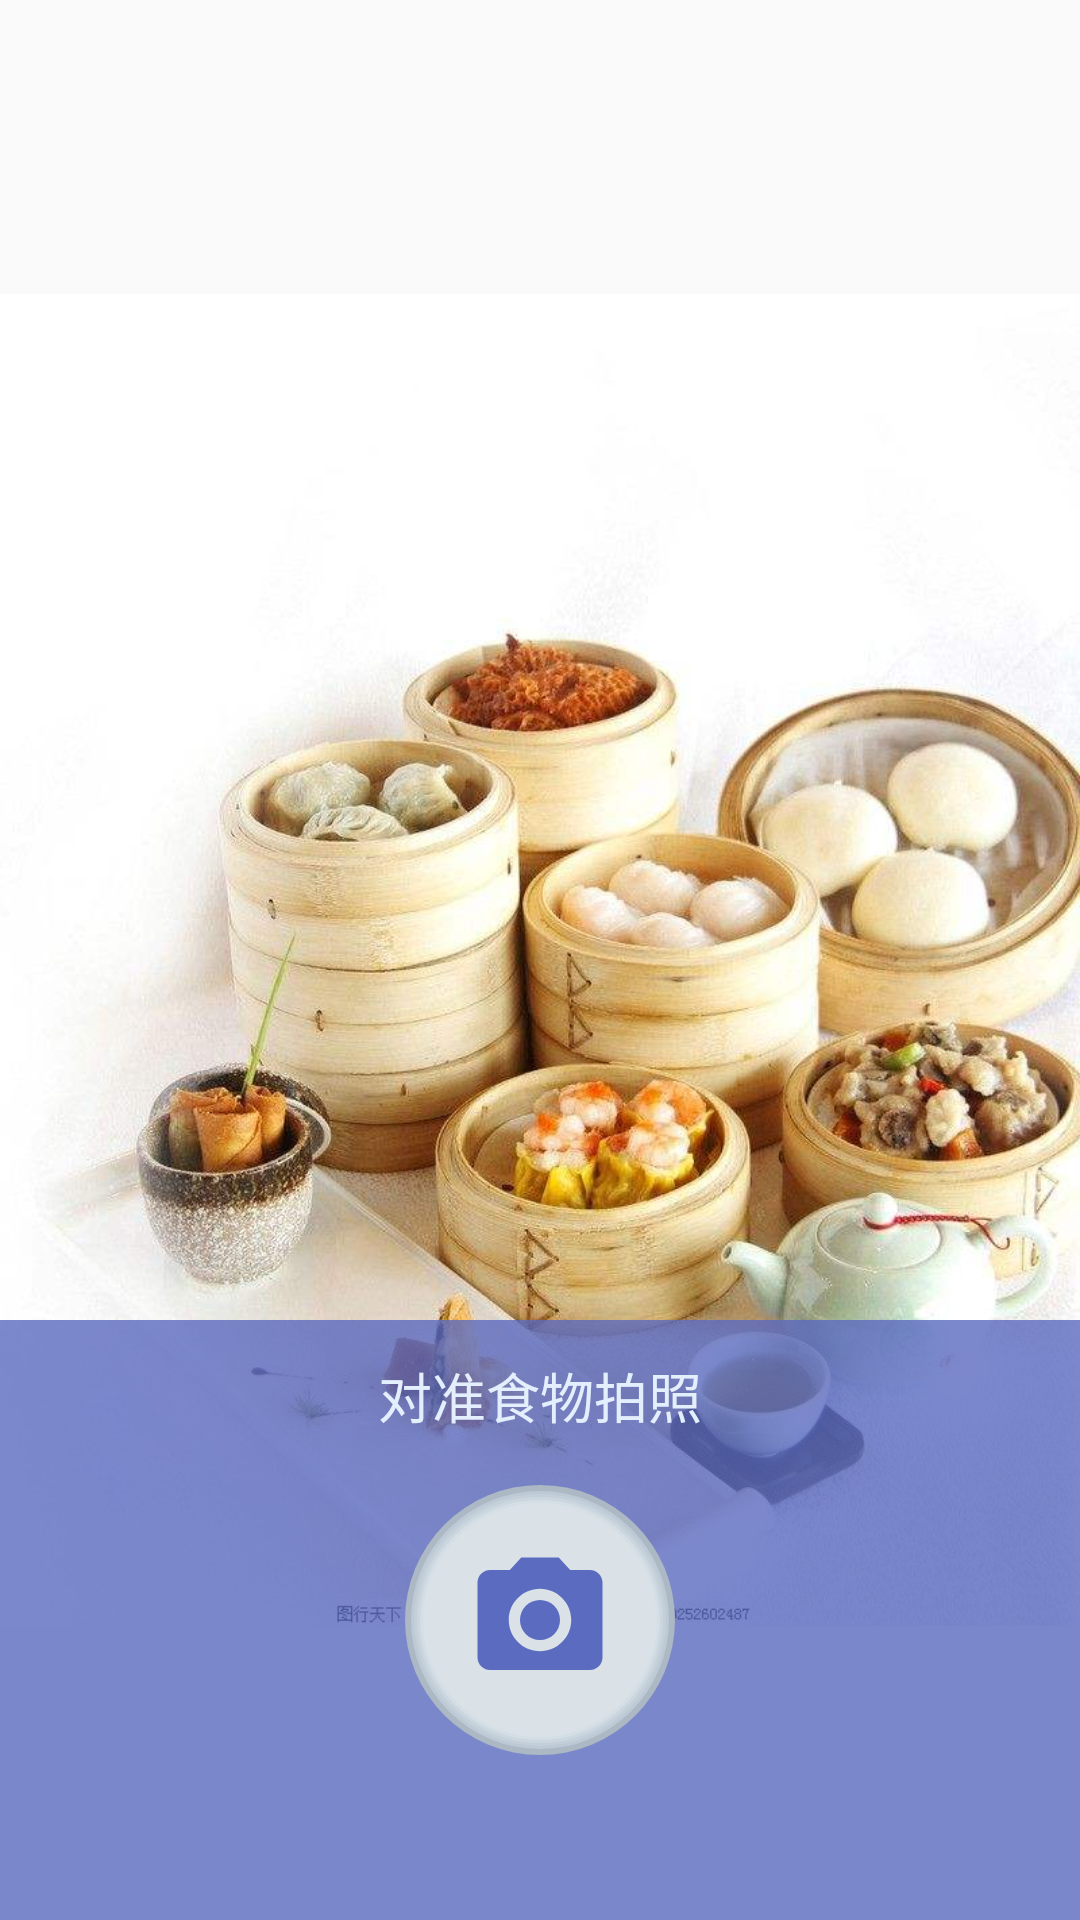

Screen size 1080 × 1920. Icon name, then its box in pixels as (x1,y1,x2,y2):
camera: (405,1485,675,1755)
